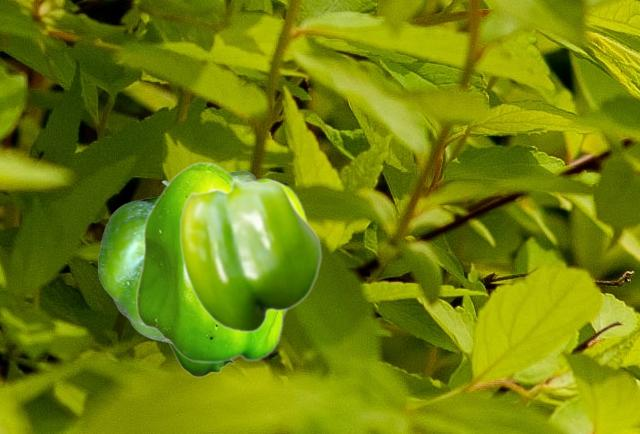bell_pepper: (135, 161, 306, 362), (98, 170, 256, 343), (179, 178, 321, 332), (168, 344, 234, 376)
